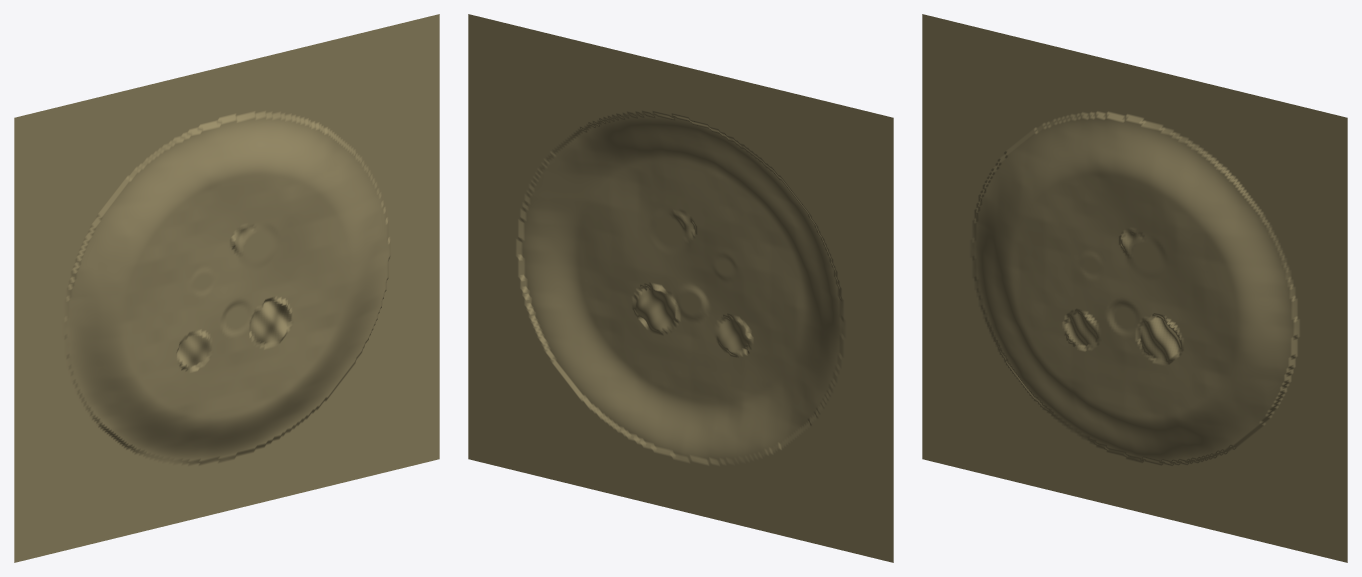
Rendered from coastal_terrain.obj.
3 renders of one model, left to right at view 1: azimuth 30°, elevation 25°; view 2: azimuth 150°, elevation 25°; view 3: azimuth 330°, elevation 25°, orthographic.
Size of the model in its own units: 100 by 100 by 4.98.
